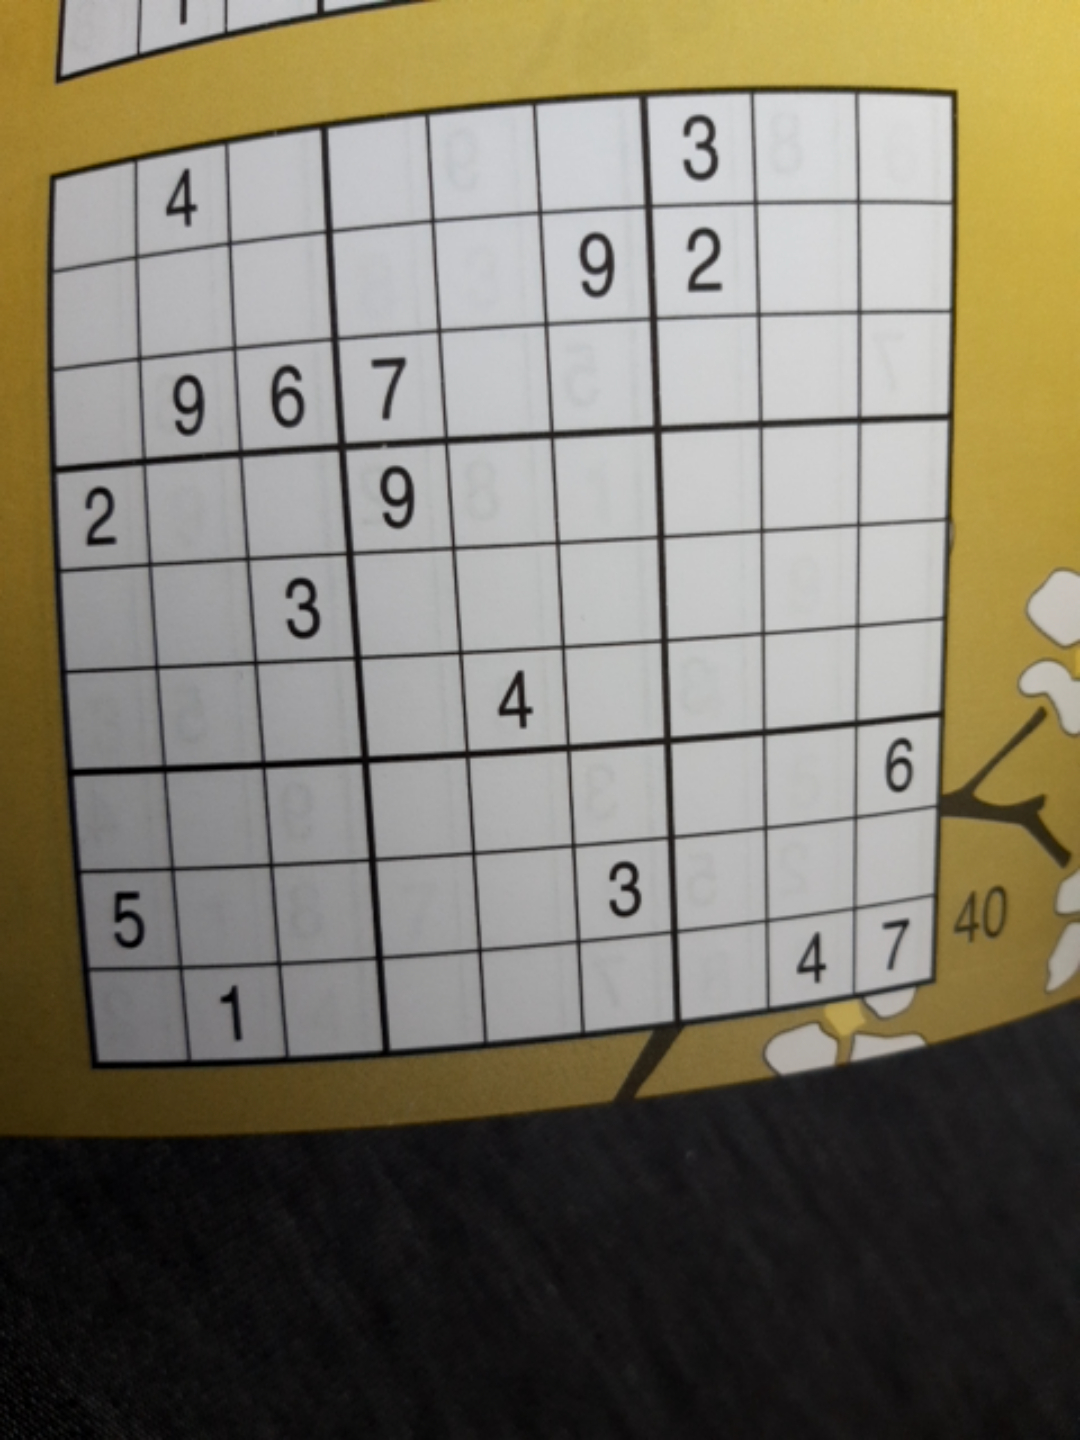sudoku: (43, 86, 938, 1070)
